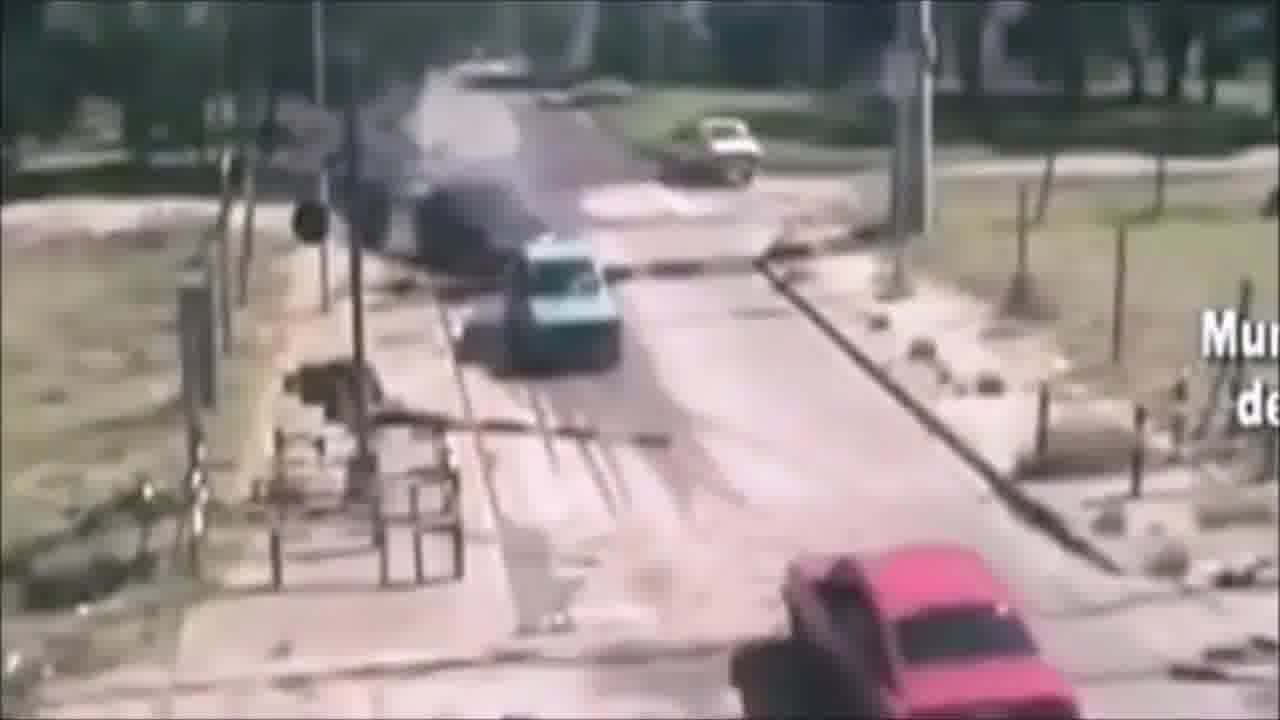crossing railway track: (728, 504, 1128, 720)
